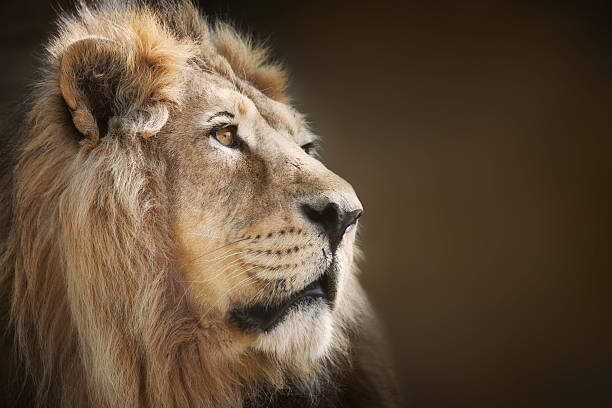lion: (8, 4, 399, 408)
